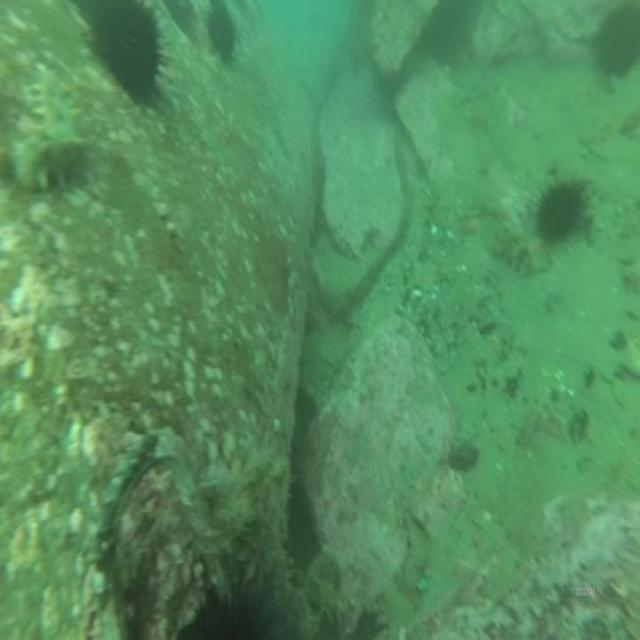echinus: (82, 0, 180, 119), (537, 170, 589, 258), (596, 3, 640, 87), (207, 3, 236, 65)
